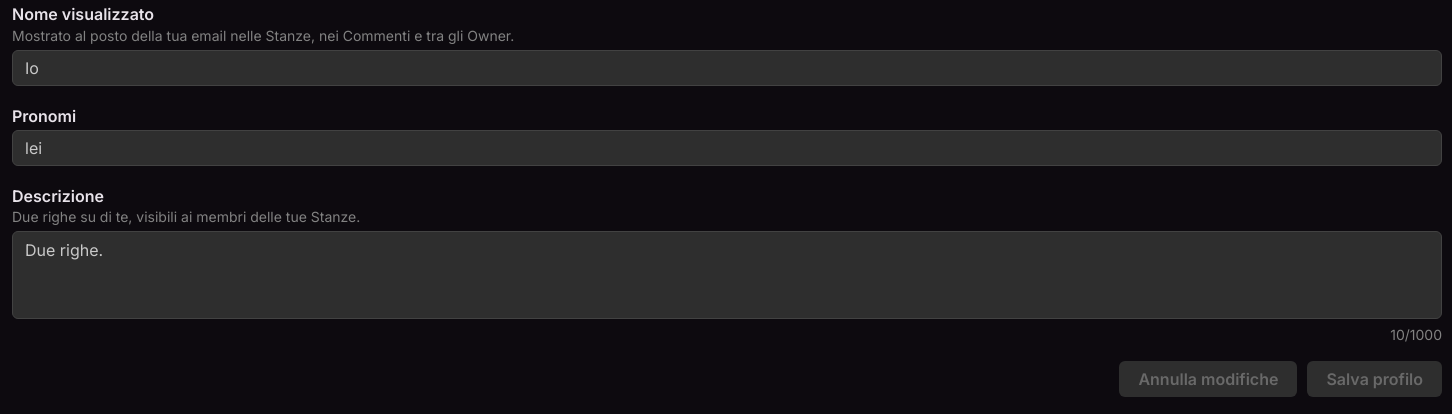
Test: ProfileForm › enables saving once a field changes
In the field labelled "Nome visualizzato": (727, 68) [12, 50, 1442, 86], type "!"
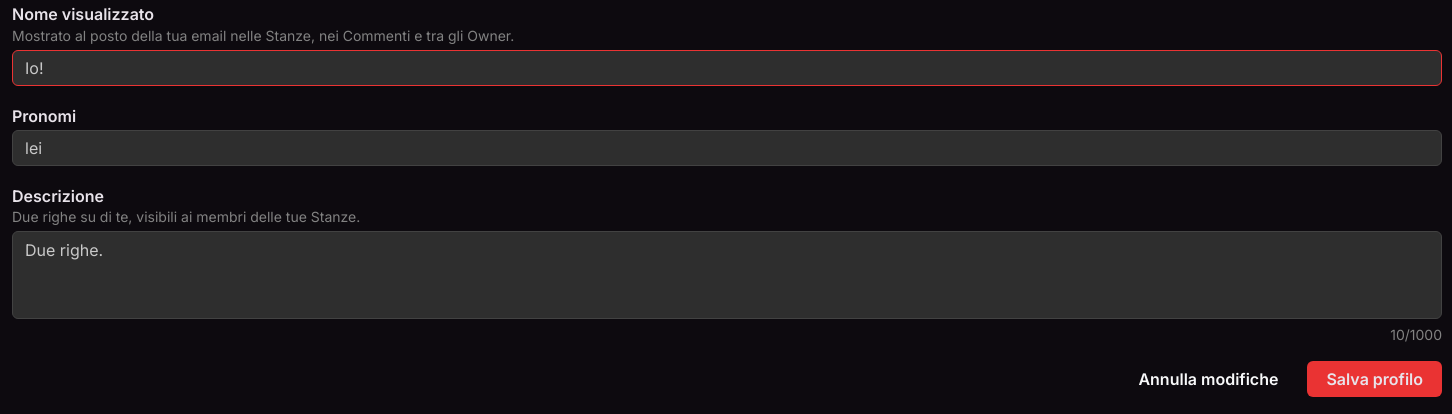
Check: the button "Salva profilo" is enabled, box [1308, 361, 1442, 397]
